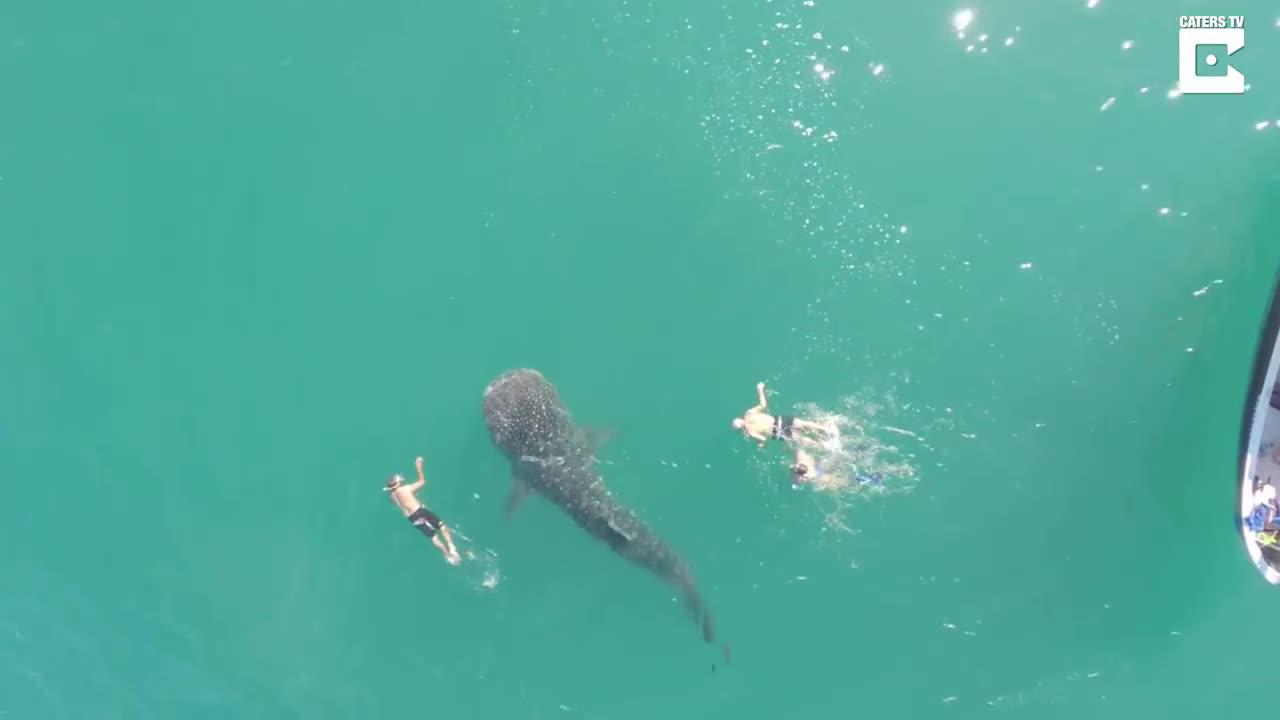human: (376, 455, 466, 575), (725, 380, 836, 451), (782, 453, 836, 494)
